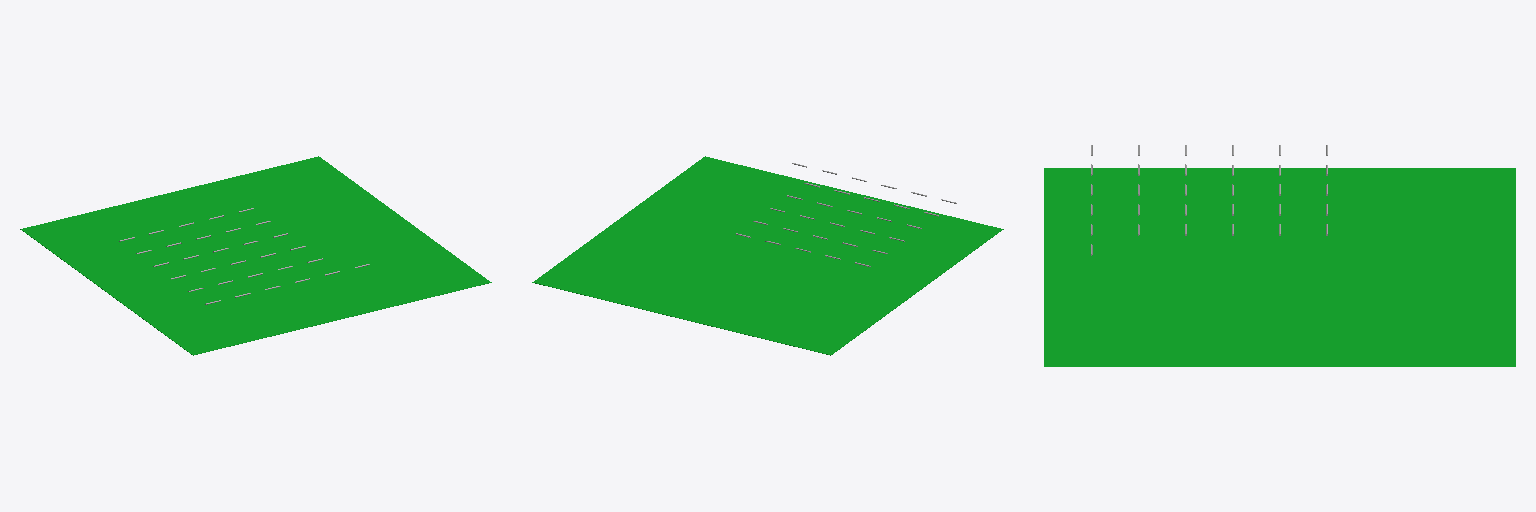
robot.urdf — IGRIS_C_MOTORS:
<?xml version="1.0"?>
<robot name="IGRIS_C_MOTORS">

    <!-- base link -->
    <link name="base_link">
        <visual>
            <origin xyz="5 5 0.0"/>
            <geometry>
                <box size="10 10 0.01"/>
            </geometry>

            <material>
                <color rgba="0.1 0.7 0.2 0.7"/>
            </material>
        </visual>
    </link>
    <!-- waist -->
    <link name="Waist_Yaw_Link">
        <visual>
            <origin xyz="0.25 0 0" rpy="0 1.5708 0"/>

            <geometry>
                <cylinder radius="0.02" length="0.5"/>
            </geometry>

            <material name="random">
                <color rgba="0.7 0.7 0.7 0.7"/>
            </material>
        </visual>
    </link>
    <link name="Waist_Left_Link">
        <visual>
            <origin xyz="0.25 0 0" rpy="0 1.5708 0"/>

            <geometry>
                <cylinder radius="0.02" length="0.5"/>
            </geometry>

            <material name="random">
                <color rgba="0.7 0.7 0.7 0.7"/>
            </material>
        </visual>
    </link>
    <link name="Waist_Right_Link">
        <visual>
            <origin xyz="0.25 0 0" rpy="0 1.5708 0"/>

            <geometry>
                <cylinder radius="0.02" length="0.5"/>
            </geometry>

            <material name="random">
                <color rgba="0.7 0.7 0.7 0.7"/>
            </material>
        </visual>
    </link>
    <!-- left leg -->
    <link name="Hip_Pitch_Left_Link">
        <visual>
            <origin xyz="0.25 0 0" rpy="0 1.5708 0"/>

            <geometry>
                <cylinder radius="0.02" length="0.5"/>
            </geometry>

            <material name="random">
                <color rgba="0.7 0.7 0.7 0.7"/>
            </material>
        </visual>
    </link>
    <link name="Hip_Roll_Left_Link">
        <visual>
            <origin xyz="0.25 0 0" rpy="0 1.5708 0"/>

            <geometry>
                <cylinder radius="0.02" length="0.5"/>
            </geometry>

            <material name="random">
                <color rgba="0.7 0.7 0.7 0.7"/>
            </material>
        </visual>
    </link>
    <link name="Hip_Yaw_Left_Link">
        <visual>
            <origin xyz="0.25 0 0" rpy="0 1.5708 0"/>

            <geometry>
                <cylinder radius="0.02" length="0.5"/>
            </geometry>

            <material name="random">
                <color rgba="0.7 0.7 0.7 0.7"/>
            </material>
        </visual>
    </link>
    <link name="Knee_Pitch_Left_Link">
        <visual>
            <origin xyz="0.25 0 0" rpy="0 1.5708 0"/>

            <geometry>
                <cylinder radius="0.02" length="0.5"/>
            </geometry>

            <material name="random">
                <color rgba="0.7 0.7 0.7 0.7"/>
            </material>
        </visual>
    </link>
    <link name="Ankle_Out_Left_Link">
        <visual>
            <origin xyz="0.25 0 0" rpy="0 1.5708 0"/>

            <geometry>
                <cylinder radius="0.02" length="0.5"/>
            </geometry>

            <material name="random">
                <color rgba="0.7 0.7 0.7 0.7"/>
            </material>
        </visual>
    </link>
    <link name="Ankle_In_Left_Link">
        <visual>
            <origin xyz="0.25 0 0" rpy="0 1.5708 0"/>

            <geometry>
                <cylinder radius="0.02" length="0.5"/>
            </geometry>

            <material name="random">
                <color rgba="0.7 0.7 0.7 0.7"/>
            </material>
        </visual>
    </link>
    <!-- right leg -->
    <link name="Hip_Pitch_Right_Link">
        <visual>
            <origin xyz="0.25 0 0" rpy="0 1.5708 0"/>

            <geometry>
                <cylinder radius="0.02" length="0.5"/>
            </geometry>

            <material name="random">
                <color rgba="0.7 0.7 0.7 0.7"/>
            </material>
        </visual>
    </link>
    <link name="Hip_Roll_Right_Link">
        <visual>
            <origin xyz="0.25 0 0" rpy="0 1.5708 0"/>

            <geometry>
                <cylinder radius="0.02" length="0.5"/>
            </geometry>

            <material name="random">
                <color rgba="0.7 0.7 0.7 0.7"/>
            </material>
        </visual>
    </link>
    <link name="Hip_Yaw_Right_Link">
        <visual>
            <origin xyz="0.25 0 0" rpy="0 1.5708 0"/>

            <geometry>
                <cylinder radius="0.02" length="0.5"/>
            </geometry>

            <material name="random">
                <color rgba="0.7 0.7 0.7 0.7"/>
            </material>
        </visual>
    </link>
    <link name="Knee_Pitch_Right_Link">
        <visual>
            <origin xyz="0.25 0 0" rpy="0 1.5708 0"/>

            <geometry>
                <cylinder radius="0.02" length="0.5"/>
            </geometry>

            <material name="random">
                <color rgba="0.7 0.7 0.7 0.7"/>
            </material>
        </visual>
    </link>
    <link name="Ankle_Out_Right_Link">
        <visual>
            <origin xyz="0.25 0 0" rpy="0 1.5708 0"/>

            <geometry>
                <cylinder radius="0.02" length="0.5"/>
            </geometry>

            <material name="random">
                <color rgba="0.7 0.7 0.7 0.7"/>
            </material>
        </visual>
    </link>
    <link name="Ankle_In_Right_Link">
        <visual>
            <origin xyz="0.25 0 0" rpy="0 1.5708 0"/>

            <geometry>
                <cylinder radius="0.02" length="0.5"/>
            </geometry>

            <material name="random">
                <color rgba="0.7 0.7 0.7 0.7"/>
            </material>
        </visual>
    </link>
    <!-- left arm -->
    <link name="Shoulder_Pitch_Left_Link">
        <visual>
            <origin xyz="0.25 0 0" rpy="0 1.5708 0"/>

            <geometry>
                <cylinder radius="0.02" length="0.5"/>
            </geometry>

            <material name="random">
                <color rgba="0.7 0.7 0.7 0.7"/>
            </material>
        </visual>
    </link>
    <link name="Shoulder_Roll_Left_Link">
        <visual>
            <origin xyz="0.25 0 0" rpy="0 1.5708 0"/>

            <geometry>
                <cylinder radius="0.02" length="0.5"/>
            </geometry>

            <material name="random">
                <color rgba="0.7 0.7 0.7 0.7"/>
            </material>
        </visual>
    </link>
    <link name="Shoulder_Yaw_Left_Link">
        <visual>
            <origin xyz="0.25 0 0" rpy="0 1.5708 0"/>

            <geometry>
                <cylinder radius="0.02" length="0.5"/>
            </geometry>

            <material name="random">
                <color rgba="0.7 0.7 0.7 0.7"/>
            </material>
        </visual>
    </link>
    <link name="Elbow_Pitch_Left_Link">
        <visual>
            <origin xyz="0.25 0 0" rpy="0 1.5708 0"/>

            <geometry>
                <cylinder radius="0.02" length="0.5"/>
            </geometry>

            <material name="random">
                <color rgba="0.7 0.7 0.7 0.7"/>
            </material>
        </visual>
    </link>
    <link name="Wrist_Yaw_Left_Link">
        <visual>
            <origin xyz="0.25 0 0" rpy="0 1.5708 0"/>

            <geometry>
                <cylinder radius="0.02" length="0.5"/>
            </geometry>

            <material name="random">
                <color rgba="0.7 0.7 0.7 0.7"/>
            </material>
        </visual>
    </link>
    <link name="Wrist_Front_Left_Link">
        <visual>
            <origin xyz="0.25 0 0" rpy="0 1.5708 0"/>

            <geometry>
                <cylinder radius="0.02" length="0.5"/>
            </geometry>

            <material name="random">
                <color rgba="0.7 0.7 0.7 0.7"/>
            </material>
        </visual>
    </link>
    <link name="Wrist_Back_Left_Link">
        <visual>
            <origin xyz="0.25 0 0" rpy="0 1.5708 0"/>

            <geometry>
                <cylinder radius="0.02" length="0.5"/>
            </geometry>

            <material name="random">
                <color rgba="0.7 0.7 0.7 0.7"/>
            </material>
        </visual>
    </link>
    <!-- right arm -->
    <link name="Shoulder_Pitch_Right_Link">
        <visual>
            <origin xyz="0.25 0 0" rpy="0 1.5708 0"/>

            <geometry>
                <cylinder radius="0.02" length="0.5"/>
            </geometry>

            <material name="random">
                <color rgba="0.7 0.7 0.7 0.7"/>
            </material>
        </visual>
    </link>
    <link name="Shoulder_Roll_Right_Link">
        <visual>
            <origin xyz="0.25 0 0" rpy="0 1.5708 0"/>

            <geometry>
                <cylinder radius="0.02" length="0.5"/>
            </geometry>

            <material name="random">
                <color rgba="0.7 0.7 0.7 0.7"/>
            </material>
        </visual>
    </link>
    <link name="Shoulder_Yaw_Right_Link">
        <visual>
            <origin xyz="0.25 0 0" rpy="0 1.5708 0"/>

            <geometry>
                <cylinder radius="0.02" length="0.5"/>
            </geometry>

            <material name="random">
                <color rgba="0.7 0.7 0.7 0.7"/>
            </material>
        </visual>
    </link>
    <link name="Elbow_Pitch_Right_Link">
        <visual>
            <origin xyz="0.25 0 0" rpy="0 1.5708 0"/>

            <geometry>
                <cylinder radius="0.02" length="0.5"/>
            </geometry>

            <material name="random">
                <color rgba="0.7 0.7 0.7 0.7"/>
            </material>
        </visual>
    </link>
    <link name="Wrist_Yaw_Right_Link">
        <visual>
            <origin xyz="0.25 0 0" rpy="0 1.5708 0"/>

            <geometry>
                <cylinder radius="0.02" length="0.5"/>
            </geometry>

            <material name="random">
                <color rgba="0.7 0.7 0.7 0.7"/>
            </material>
        </visual>
    </link>
    <link name="Wrist_Front_Right_Link">
        <visual>
            <origin xyz="0.25 0 0" rpy="0 1.5708 0"/>

            <geometry>
                <cylinder radius="0.02" length="0.5"/>
            </geometry>

            <material name="random">
                <color rgba="0.7 0.7 0.7 0.7"/>
            </material>
        </visual>
    </link>
    <link name="Wrist_Back_Right_Link">
        <visual>
            <origin xyz="0.25 0 0" rpy="0 1.5708 0"/>

            <geometry>
                <cylinder radius="0.02" length="0.5"/>
            </geometry>

            <material name="random">
                <color rgba="0.7 0.7 0.7 0.7"/>
            </material>
        </visual>
    </link>
    <!-- neck -->
    <link name="Neck_Yaw_Link">
        <visual>
            <origin xyz="0.25 0 0" rpy="0 1.5708 0"/>

            <geometry>
                <cylinder radius="0.02" length="0.5"/>
            </geometry>

            <material name="random">
                <color rgba="0.7 0.7 0.7 0.7"/>
            </material>
        </visual>
    </link>
    <link name="Neck_Pitch_Link">
        <visual>
            <origin xyz="0.25 0 0" rpy="0 1.5708 0"/>

            <geometry>
                <cylinder radius="0.02" length="0.5"/>
            </geometry>

            <material name="random">
                <color rgba="0.7 0.7 0.7 0.7"/>
            </material>
        </visual>
    </link>

    <joint name="1_Waist_Yaw" type="revolute">
        <parent link="base_link"/>
        <child link="Waist_Yaw_Link"/>

        <origin xyz="1 1 1"/>
        <axis xyz="0.0 0.0 1.0"/>
        <limit lower="-1.5708" upper="1.5708" effort="0.0" velocity="0.0"/>
    </joint>

    <joint name="2_Waist_Left" type="revolute">
        <parent link="base_link"/>
        <child link="Waist_Left_Link"/>
        <origin xyz="1 2 1"/>
        <axis xyz="0.0 0.0 1.0"/>
        <limit lower="-1.5708" upper="1.5708" effort="0.0" velocity="0.0"/>
    </joint>

    <joint name="3_Waist_Right" type="revolute">
        <parent link="base_link"/>
        <child link="Waist_Right_Link"/>
        <origin xyz="1 3 1"/>
        <axis xyz="0.0 0.0 1.0"/>
        <limit lower="-1.5708" upper="1.5708" effort="0.0" velocity="0.0"/>
    </joint>

    <joint name="4_Hip_Pitch_Left" type="revolute">
        <parent link="base_link"/>
        <child link="Hip_Pitch_Left_Link"/>
        <origin xyz="1 4 1"/>
        <axis xyz="0.0 0.0 1.0"/>
        <limit lower="-1.5708" upper="1.5708" effort="0.0" velocity="0.0"/>
    </joint>

    <joint name="5_Hip_Roll_Left" type="revolute">
        <parent link="base_link"/>
        <child link="Hip_Roll_Left_Link"/>
        <origin xyz="1 5 1"/>
        <axis xyz="0.0 0.0 1.0"/>
        <limit lower="-1.5708" upper="1.5708" effort="0.0" velocity="0.0"/>
    </joint>

    <joint name="6_Hip_Yaw_Left" type="revolute">
        <parent link="base_link"/>
        <child link="Hip_Yaw_Left_Link"/>
        <origin xyz="1 6 1"/>
        <axis xyz="0.0 0.0 1.0"/>
        <limit lower="-1.5708" upper="1.5708" effort="0.0" velocity="0.0"/>
    </joint>

    <joint name="7_Knee_Pitch_Left" type="revolute">
        <parent link="base_link"/>
        <child link="Knee_Pitch_Left_Link"/>
        <origin xyz="2 1 1"/>
        <axis xyz="0.0 0.0 1.0"/>
        <limit lower="-1.5708" upper="1.5708" effort="0.0" velocity="0.0"/>
    </joint>

    <joint name="8_Ankle_Out_Left" type="revolute">
        <parent link="base_link"/>
        <child link="Ankle_Out_Left_Link"/>
        <origin xyz="2 2 1"/>
        <axis xyz="0.0 0.0 1.0"/>
        <limit lower="-1.5708" upper="1.5708" effort="0.0" velocity="0.0"/>
    </joint>

    <joint name="9_Ankle_In_Left" type="revolute">
        <parent link="base_link"/>
        <child link="Ankle_In_Left_Link"/>
        <origin xyz="2 3 1"/>
        <axis xyz="0.0 0.0 1.0"/>
        <limit lower="-1.5708" upper="1.5708" effort="0.0" velocity="0.0"/>
    </joint>

    <joint name="10_Hip_Pitch_Right" type="revolute">
        <parent link="base_link"/>
        <child link="Hip_Pitch_Right_Link"/>
        <origin xyz="2 4 1"/>
        <axis xyz="0.0 0.0 1.0"/>
        <limit lower="-1.5708" upper="1.5708" effort="0.0" velocity="0.0"/>
    </joint>

    <joint name="11_Hip_Roll_Right" type="revolute">
        <parent link="base_link"/>
        <child link="Hip_Roll_Right_Link"/>
        <origin xyz="2 5 1"/>
        <axis xyz="0.0 0.0 1.0"/>
        <limit lower="-1.5708" upper="1.5708" effort="0.0" velocity="0.0"/>
    </joint>

    <joint name="12_Hip_Yaw_Right" type="revolute">
        <parent link="base_link"/>
        <child link="Hip_Yaw_Right_Link"/>
        <origin xyz="2 6 1"/>
        <axis xyz="0.0 0.0 1.0"/>
        <limit lower="-1.5708" upper="1.5708" effort="0.0" velocity="0.0"/>
    </joint>

    <joint name="13_Knee_Pitch_Right" type="revolute">
        <parent link="base_link"/>
        <child link="Knee_Pitch_Right_Link"/>
        <origin xyz="3 1 1"/>
        <axis xyz="0.0 0.0 1.0"/>
        <limit lower="-1.5708" upper="1.5708" effort="0.0" velocity="0.0"/>
    </joint>

    <joint name="14_Ankle_Out_Right" type="revolute">
        <parent link="base_link"/>
        <child link="Ankle_Out_Right_Link"/>
        <origin xyz="3 2 1"/>
        <axis xyz="0.0 0.0 1.0"/>
        <limit lower="-1.5708" upper="1.5708" effort="0.0" velocity="0.0"/>
    </joint>

    <joint name="15_Ankle_In_Right" type="revolute">
        <parent link="base_link"/>
        <child link="Ankle_In_Right_Link"/>
        <origin xyz="3 3 1"/>
        <axis xyz="0.0 0.0 1.0"/>
        <limit lower="-1.5708" upper="1.5708" effort="0.0" velocity="0.0"/>
    </joint>

    <joint name="16_Shoulder_Pitch_Left" type="revolute">
        <parent link="base_link"/>
        <child link="Shoulder_Pitch_Left_Link"/>
        <origin xyz="3 4 1"/>
        <axis xyz="0.0 0.0 1.0"/>
        <limit lower="-1.5708" upper="1.5708" effort="0.0" velocity="0.0"/>
    </joint>

    <joint name="17_Shoulder_Roll_Left" type="revolute">
        <parent link="base_link"/>
        <child link="Shoulder_Roll_Left_Link"/>
        <origin xyz="3 5 1"/>
        <axis xyz="0.0 0.0 1.0"/>
        <limit lower="-1.5708" upper="1.5708" effort="0.0" velocity="0.0"/>
    </joint>

    <joint name="18_Shoulder_Yaw_Left" type="revolute">
        <parent link="base_link"/>
        <child link="Shoulder_Yaw_Left_Link"/>
        <origin xyz="3 6 1"/>
        <axis xyz="0.0 0.0 1.0"/>
        <limit lower="-1.5708" upper="1.5708" effort="0.0" velocity="0.0"/>
    </joint>

    <joint name="19_Elbow_Pitch_Left" type="revolute">
        <parent link="base_link"/>
        <child link="Elbow_Pitch_Left_Link"/>
        <origin xyz="4 1 1"/>
        <axis xyz="0.0 0.0 1.0"/>
        <limit lower="-1.5708" upper="1.5708" effort="0.0" velocity="0.0"/>
    </joint>

    <joint name="20_Wrist_Yaw_Left" type="revolute">
        <parent link="base_link"/>
        <child link="Wrist_Yaw_Left_Link"/>
        <origin xyz="4 2 1"/>
        <axis xyz="0.0 0.0 1.0"/>
        <limit lower="-1.5708" upper="1.5708" effort="0.0" velocity="0.0"/>
    </joint>

    <joint name="21_Wrist_Front_Left" type="revolute">
        <parent link="base_link"/>
        <child link="Wrist_Front_Left_Link"/>
        <origin xyz="4 3 1"/>
        <axis xyz="0.0 0.0 1.0"/>
        <limit lower="-1.5708" upper="1.5708" effort="0.0" velocity="0.0"/>
    </joint>
    <joint name="22_Wrist_Back_Left" type="revolute">
        <parent link="base_link"/>
        <child link="Wrist_Back_Left_Link"/>
        <origin xyz="4 4 1"/>
        <axis xyz="0.0 0.0 1.0"/>
        <limit lower="-1.5708" upper="1.5708" effort="0.0" velocity="0.0"/>
    </joint>
    <joint name="23_Shoulder_Pitch_Right" type="revolute">
        <parent link="base_link"/>
        <child link="Shoulder_Pitch_Right_Link"/>
        <origin xyz="4 5 1"/>
        <axis xyz="0.0 0.0 1.0"/>
        <limit lower="-1.5708" upper="1.5708" effort="0.0" velocity="0.0"/>
    </joint>
    <joint name="24_Shoulder_Roll_Right" type="revolute">
        <parent link="base_link"/>
        <child link="Shoulder_Roll_Right_Link"/>
        <origin xyz="4 6 1"/>
        <axis xyz="0.0 0.0 1.0"/>
        <limit lower="-1.5708" upper="1.5708" effort="0.0" velocity="0.0"/>
    </joint>
    <joint name="25_Shoulder_Yaw_Right" type="revolute">
        <parent link="base_link"/>
        <child link="Shoulder_Yaw_Right_Link"/>
        <origin xyz="5 1 1"/>
        <axis xyz="0.0 0.0 1.0"/>
        <limit lower="-1.5708" upper="1.5708" effort="0.0" velocity="0.0"/>
    </joint>

    <joint name="26_Elbow_Pitch_Right" type="revolute">
        <parent link="base_link"/>
        <child link="Elbow_Pitch_Right_Link"/>
        <origin xyz="5 2 1"/>
        <axis xyz="0.0 0.0 1.0"/>
        <limit lower="-1.5708" upper="1.5708" effort="0.0" velocity="0.0"/>
    </joint>

    <joint name="27_Wrist_Yaw_Right" type="revolute">
        <parent link="base_link"/>
        <child link="Wrist_Yaw_Right_Link"/>
        <origin xyz="5 3 1"/>
        <axis xyz="0.0 0.0 1.0"/>
        <limit lower="-1.5708" upper="1.5708" effort="0.0" velocity="0.0"/>
    </joint>
    <joint name="28_Wrist_Front_Right" type="revolute">
        <parent link="base_link"/>
        <child link="Wrist_Front_Right_Link"/>
        <origin xyz="5 4 1"/>
        <axis xyz="0.0 0.0 1.0"/>
        <limit lower="-1.5708" upper="1.5708" effort="0.0" velocity="0.0"/>
    </joint>
    <joint name="29_Wrist_Back_Right" type="revolute">
        <parent link="base_link"/>
        <child link="Wrist_Back_Right_Link"/>
        <origin xyz="5 5 1"/>
        <axis xyz="0.0 0.0 1.0"/>
        <limit lower="-1.5708" upper="1.5708" effort="0.0" velocity="0.0"/>
    </joint>
    <joint name="30_Neck_Yaw" type="revolute">
        <parent link="base_link"/>
        <child link="Neck_Yaw_Link"/>
        <origin xyz="5 6 1"/>
        <axis xyz="0.0 0.0 1.0"/>
        <limit lower="-1.5708" upper="1.5708" effort="0.0" velocity="0.0"/>
    </joint>
    <joint name="31_Neck_Pitch" type="revolute">
        <parent link="base_link"/>
        <child link="Neck_Pitch_Link"/>
        <origin xyz="6 1 1"/>
        <axis xyz="0.0 0.0 1.0"/>
        <limit lower="-1.5708" upper="1.5708" effort="0.0" velocity="0.0"/>
    </joint>

</robot>

--- Render facts (derived) ---
The picture shows the robot from 3 angles, left to right: view 1: azimuth 30°, elevation 25°; view 2: azimuth 150°, elevation 25°; view 3: azimuth 270°, elevation 25°; orthographic projection.
Model IGRIS_C_MOTORS with 32 links and 31 joints (31 revolute), rooted at base_link, posed every joint at zero.
Links seen in each view (by area): view 1: base_link; view 2: base_link; view 3: base_link.
Boxes of the visible links, left/top/right/bottom form: base_link: left=20, top=156, right=491, bottom=355; base_link: left=532, top=156, right=1003, bottom=355; base_link: left=1044, top=168, right=1515, bottom=366.
Size in the robot's own frame: 10 by 10 by 1.02 metres.
Geometry: primitives only (box / cylinder / sphere), no mesh files.
